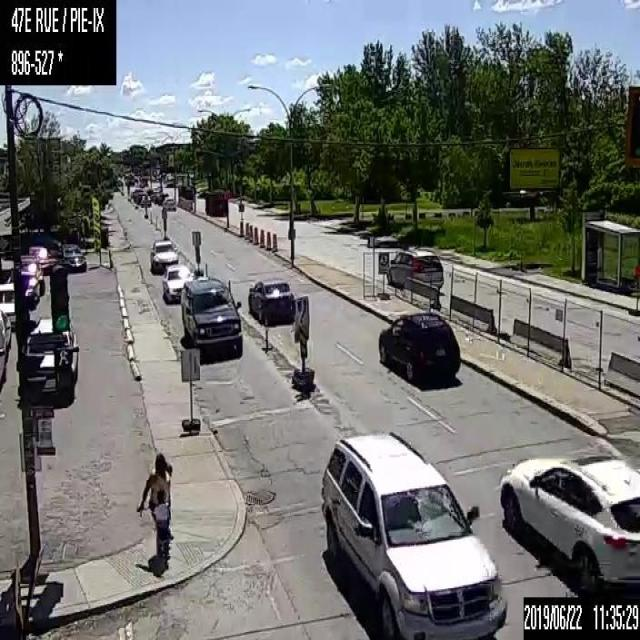construction: (262, 315, 271, 349), (178, 194, 190, 210), (271, 230, 276, 251), (266, 229, 270, 249), (260, 226, 264, 246), (245, 220, 249, 238), (254, 225, 258, 243), (248, 223, 252, 240), (239, 218, 243, 234), (204, 261, 207, 276)
pedestrian: (135, 453, 172, 575), (149, 490, 171, 570)
vehicle: (320, 431, 509, 638), (499, 454, 639, 594), (377, 312, 460, 385), (18, 314, 76, 407), (180, 280, 242, 352), (386, 244, 444, 289), (247, 274, 296, 326), (163, 263, 199, 302), (9, 269, 39, 306), (18, 254, 44, 296), (150, 236, 178, 272), (0, 310, 10, 395), (59, 242, 87, 270), (0, 280, 15, 327), (27, 244, 51, 273), (162, 195, 175, 211), (139, 193, 151, 206)
